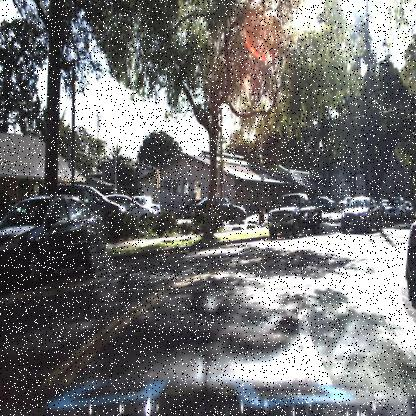car: (0, 194, 109, 291), (76, 182, 129, 235), (268, 193, 324, 235), (340, 194, 384, 234), (182, 197, 239, 223), (106, 197, 156, 225), (124, 197, 157, 238), (305, 185, 339, 217), (384, 193, 407, 225), (175, 195, 200, 224), (132, 195, 163, 211), (178, 198, 201, 216), (402, 194, 414, 221), (378, 193, 391, 214)
